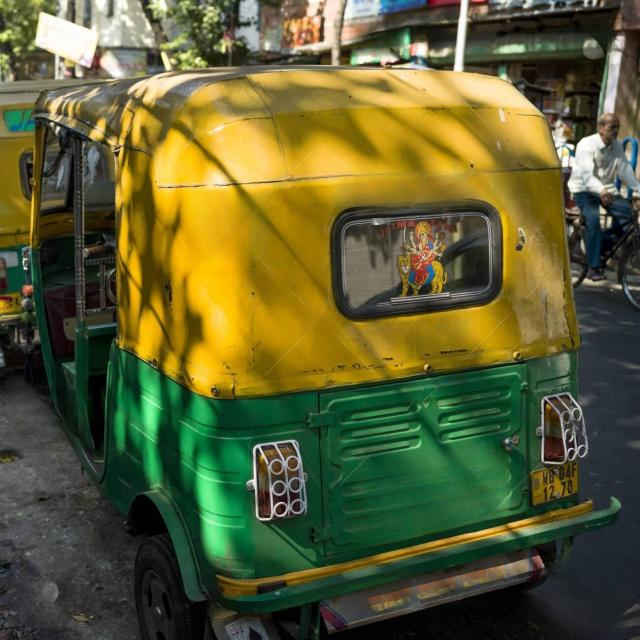autorickshaw: (32, 68, 620, 640)
